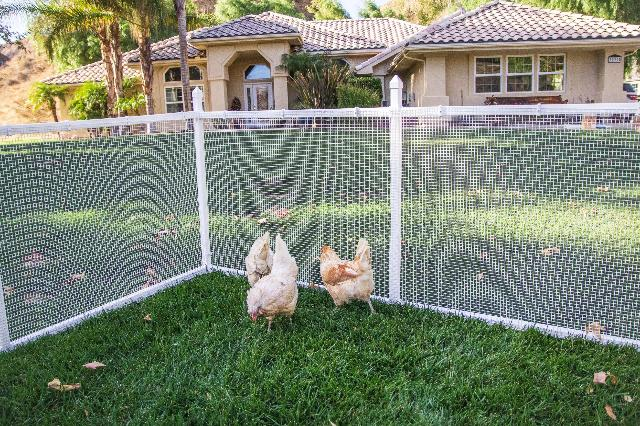Chicken: (247, 233, 299, 331), (317, 241, 377, 314), (244, 230, 271, 284)
